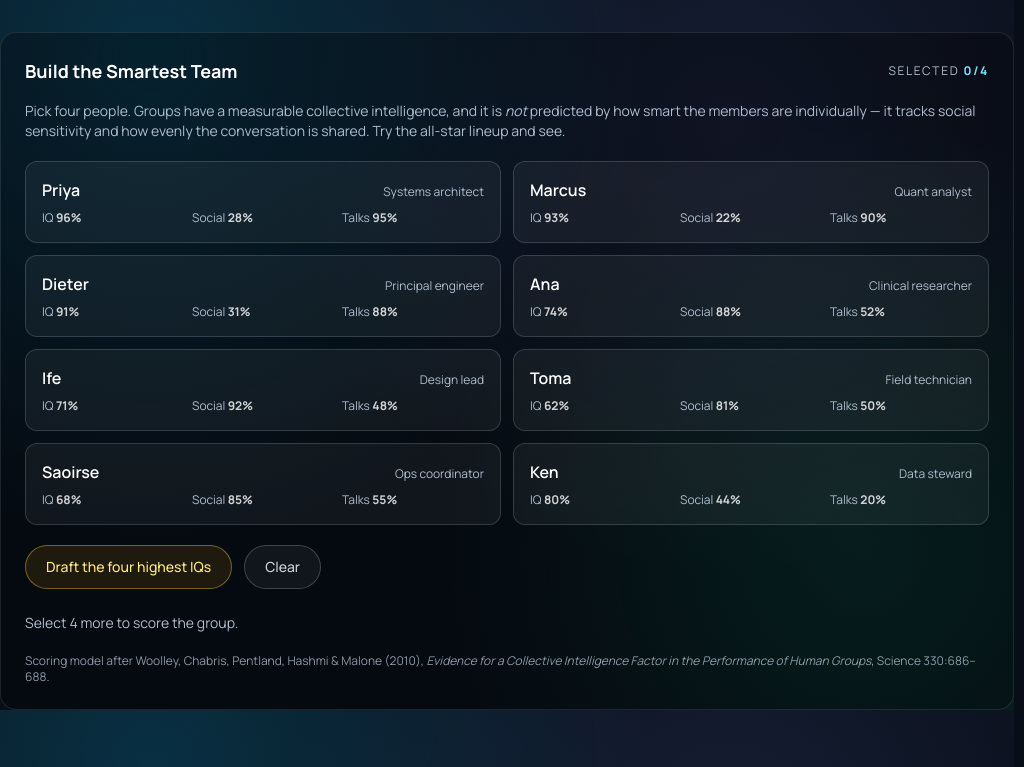
CollectiveIntelligenceGame › "Draft the four highest IQs" selects exactly the all-star lineup
This screenshot has width=1024, height=767.
Click the button with test id "ci-allstars".
click(129, 567)  # box [25,545,232,589]
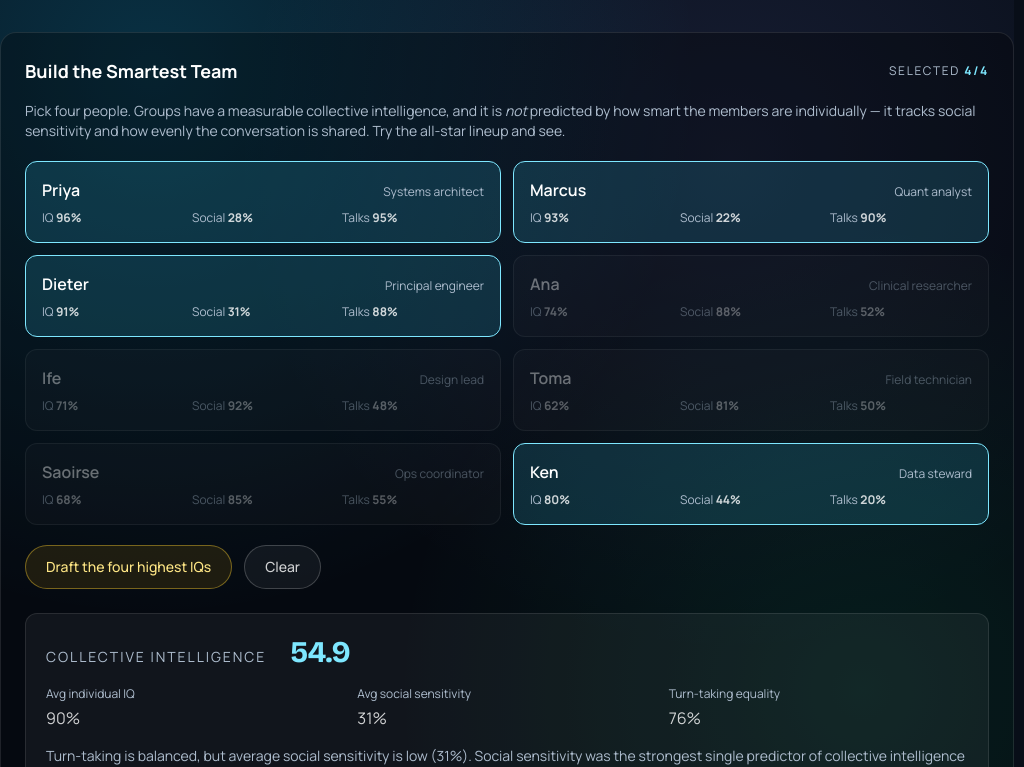
Expected: the text with test id "ci-count" reads "4/4", [964,62,989,79]
